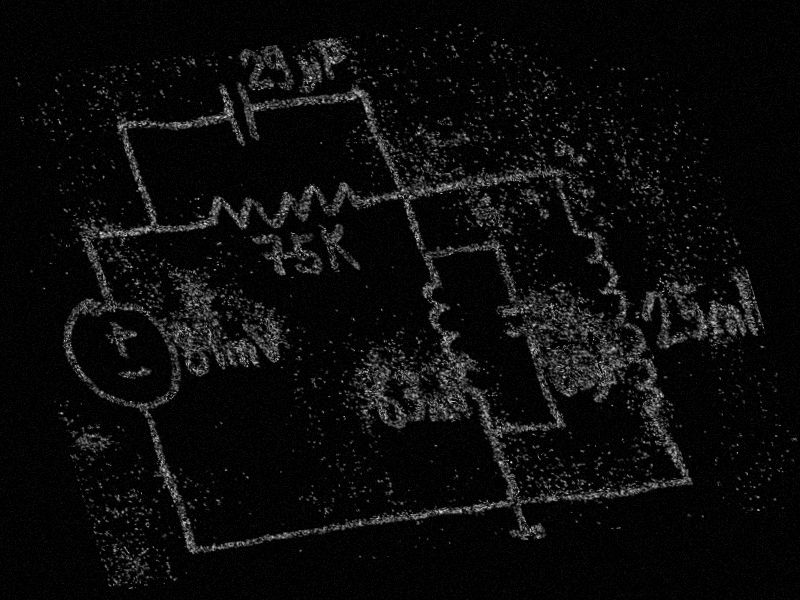-: (112, 364, 154, 383)
2: (633, 284, 691, 355), (233, 46, 278, 96)
3: (392, 369, 436, 426)
5: (666, 278, 714, 346), (286, 229, 330, 282), (567, 348, 599, 392)
6: (360, 361, 412, 433)
7: (245, 228, 303, 287)
8: (168, 321, 217, 385), (541, 344, 583, 400)
9: (260, 43, 302, 94)
F: (314, 37, 354, 82), (598, 345, 630, 388)
H: (729, 270, 766, 337), (441, 383, 473, 423)
V: (248, 316, 294, 365)
k: (312, 217, 366, 279)
m: (701, 296, 752, 345), (207, 334, 264, 374), (423, 398, 456, 423)
u: (292, 53, 331, 94), (589, 361, 616, 402)
